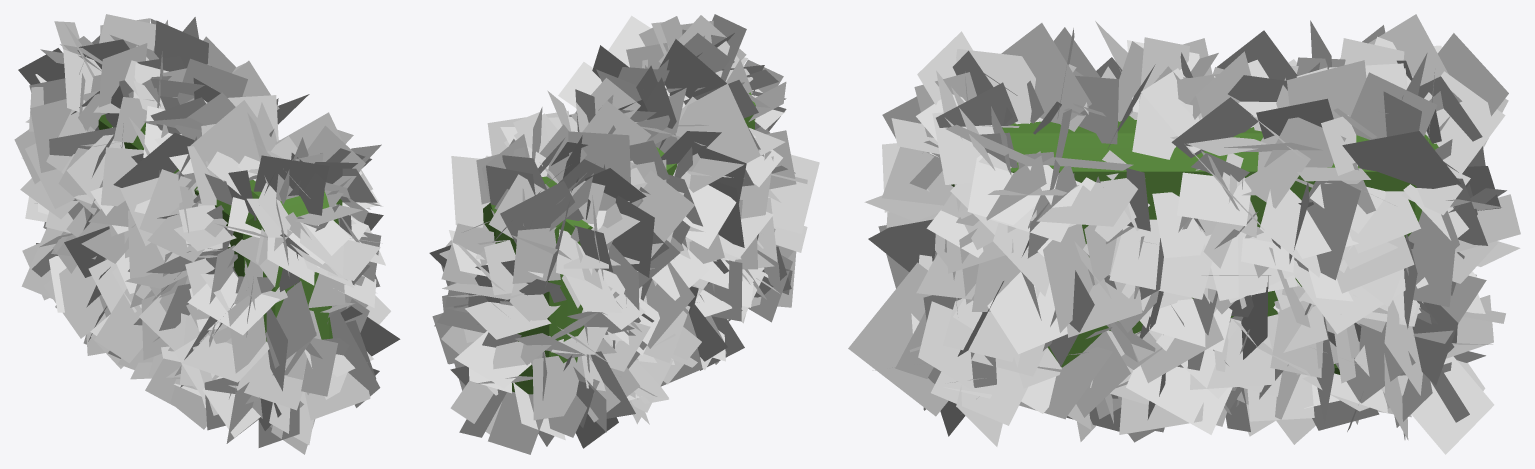
The model's file is Hedges_final.fbx.
3 views of the same model, side by side, from view 1: azimuth 30°, elevation 25°; view 2: azimuth 150°, elevation 25°; view 3: azimuth 270°, elevation 25° (orthographic). The views are drawn at different scales.
Parts seen in each view (by area): view 1: Leaves, BushLong006; view 2: Leaves, BushLong006; view 3: Leaves, BushLong006.
Boxes of the visible parts, x1,y1,x2,y2 form: Leaves: (14, 14, 400, 454); BushLong006: (98, 114, 342, 341); Leaves: (429, 14, 819, 454); BushLong006: (483, 92, 755, 394); Leaves: (848, 14, 1520, 454); BushLong006: (951, 115, 1438, 374).
Bounding box in the file's own units: 198 × 263 × 389.
